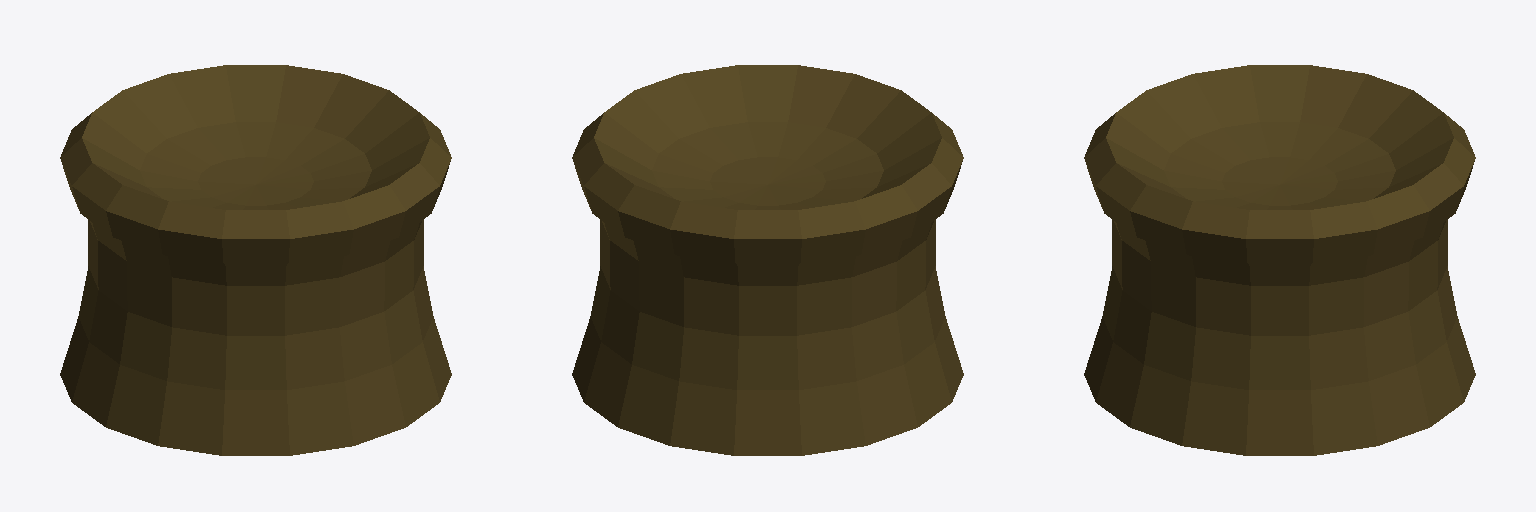
File: Collector.obj
3 views of the same model, side by side, from view 1: azimuth 30°, elevation 25°; view 2: azimuth 150°, elevation 25°; view 3: azimuth 270°, elevation 25° (orthographic).
Visible parts, largest first — view 1: Collector; view 2: Collector; view 3: Collector.
Boxes of the visible parts, x1=… form: Collector: x1=60, y1=65, x2=451, y2=455; Collector: x1=572, y1=65, x2=963, y2=455; Collector: x1=1084, y1=65, x2=1475, y2=455.
Bounding box in the file's own units: 1.48 × 1 × 1.5.